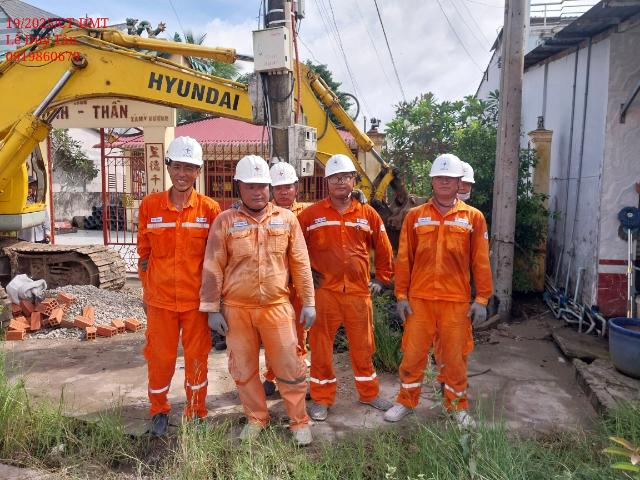gloves: (203, 308, 231, 335), (466, 299, 491, 327), (394, 300, 415, 323), (299, 306, 318, 330), (351, 185, 370, 205), (364, 276, 383, 295)
helmet: (161, 133, 211, 170), (233, 153, 272, 188), (267, 158, 303, 188), (422, 155, 465, 180), (322, 153, 360, 178), (456, 154, 478, 186)
shoes: (444, 402, 486, 433), (384, 396, 417, 425), (355, 391, 393, 411), (145, 409, 172, 437), (289, 422, 316, 448), (308, 397, 334, 423), (240, 414, 263, 440), (190, 410, 212, 437), (262, 373, 279, 397)
